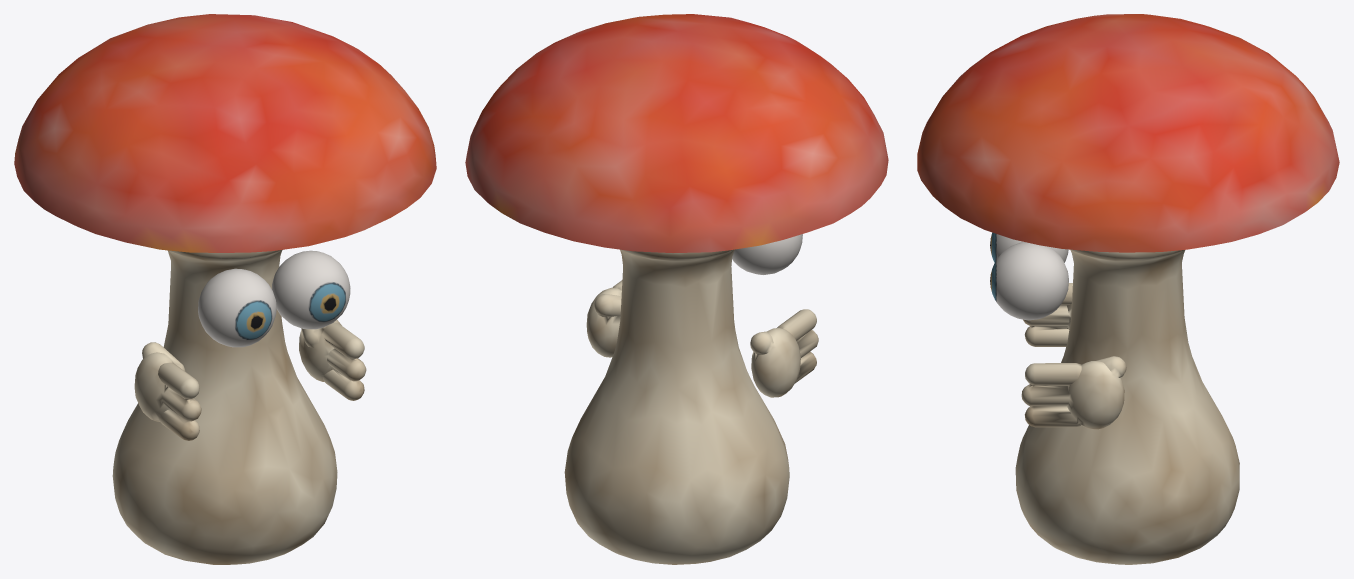
File: amanita-scout_fast.glb
3 views of the same model, side by side, from view 1: azimuth 30°, elevation 25°; view 2: azimuth 150°, elevation 25°; view 3: azimuth 270°, elevation 25° (orthographic).
Visible parts, largest first — view 1: body, eye, hand; view 2: body, hand, eye; view 3: body, hand, eye.
Part boxes in pixels (<box>): body: <box>14,14,436,564</box>; eye: <box>198,250,350,347</box>; hand: <box>134,320,366,440</box>; body: <box>465,14,888,564</box>; hand: <box>586,280,818,397</box>; eye: <box>732,234,802,274</box>; body: <box>917,14,1339,564</box>; hand: <box>1021,283,1126,429</box>; eye: <box>990,232,1068,320</box>.
Bounding box in the file's own units: 1.29 × 1.68 × 1.29.
